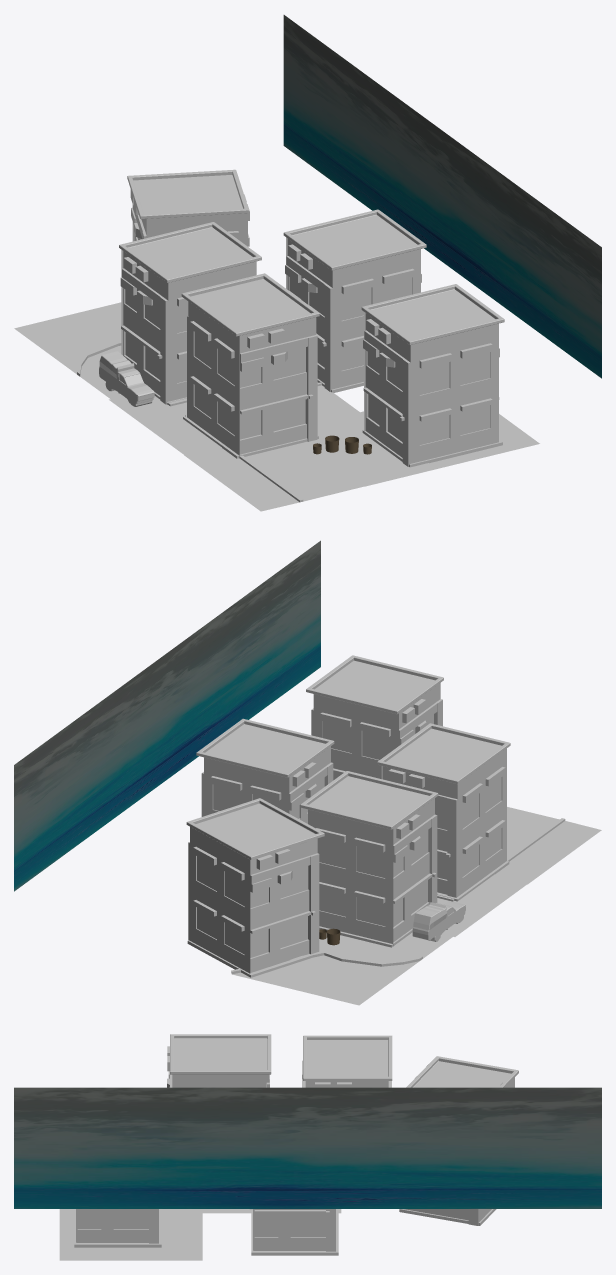
File: city.fbx
3 renders of one model, top to bottom at view 1: azimuth 30°, elevation 25°; view 2: azimuth 150°, elevation 25°; view 3: azimuth 270°, elevation 25°, orthographic. The views are drawn at different scales.
Visible parts, largest first — view 1: Plane.009, Plane.007, Plane.002, Plane.001, Plane.003, Plane.012, Plane.006, Plane, Plane.008; view 2: Plane.009, Plane.006, Plane.012, Plane.002, Plane.001, Plane.007, Plane.003, Plane; view 3: Plane.009, Plane.002, Plane.012, Plane.003, Plane.008, Plane.006, Plane.007, Plane.001.
Part boxes in pixels (box(x1,y1,x2,y2)): Plane.009: box(283, 15, 601, 378); Plane.007: box(361, 284, 504, 467); Plane.002: box(181, 273, 319, 458); Plane.001: box(14, 302, 436, 511); Plane.003: box(283, 209, 426, 392); Plane.012: box(119, 222, 261, 404); Plane.006: box(127, 169, 249, 246); Plane: box(99, 351, 154, 406); Plane.008: box(360, 411, 539, 486); Plane.009: box(14, 540, 320, 891); Plane.006: box(186, 798, 324, 977); Plane.012: box(300, 771, 438, 947); Plane.002: box(377, 723, 510, 901); Plane.001: box(231, 807, 601, 1005); Plane.007: box(306, 655, 443, 780); Plane.003: box(196, 718, 334, 823); Plane: box(412, 901, 465, 941); Plane.009: box(14, 1087, 601, 1208); Plane.002: box(167, 1034, 271, 1087); Plane.012: box(302, 1035, 392, 1087); Plane.003: box(250, 1209, 338, 1255); Plane.008: box(59, 1213, 202, 1260); Plane.006: box(399, 1056, 518, 1225); Plane.007: box(74, 1209, 161, 1247); Plane.001: box(59, 1209, 341, 1213).
Size of the model in its own units: 5769 by 3691 by 10059.
